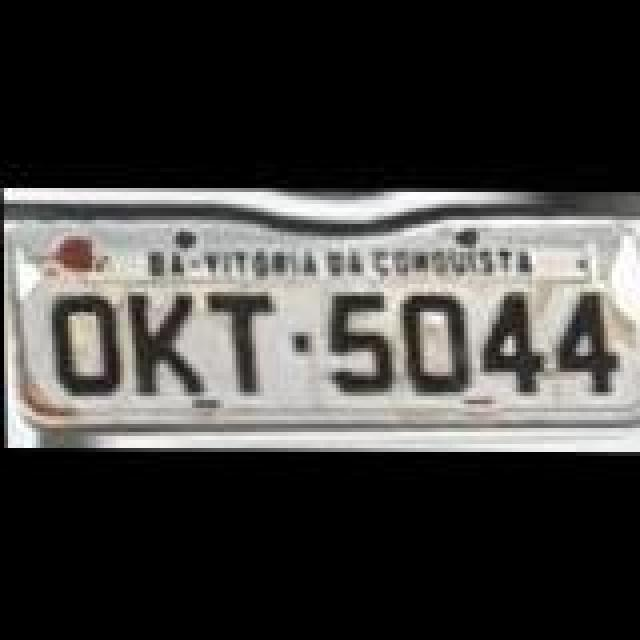4: (476, 286, 548, 398), (552, 288, 624, 400)
5: (322, 290, 390, 394)
K: (124, 290, 204, 398)
O: (46, 292, 122, 396), (402, 290, 470, 394)
T: (206, 292, 282, 400)
